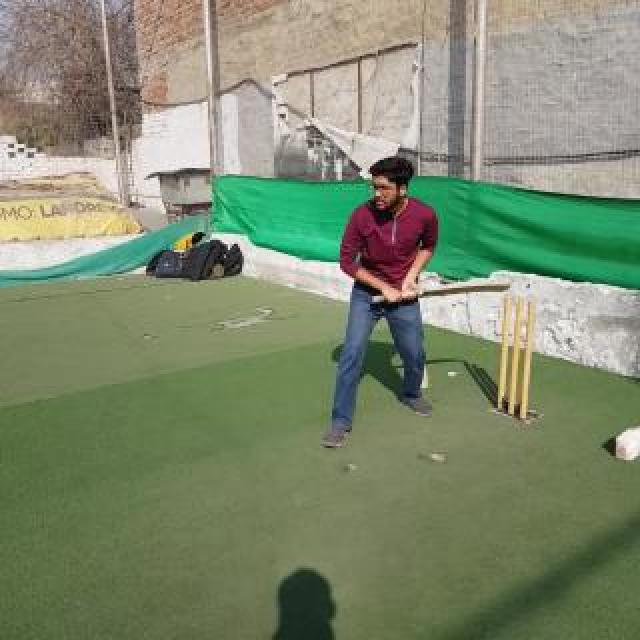bat: (372, 278, 510, 304)
